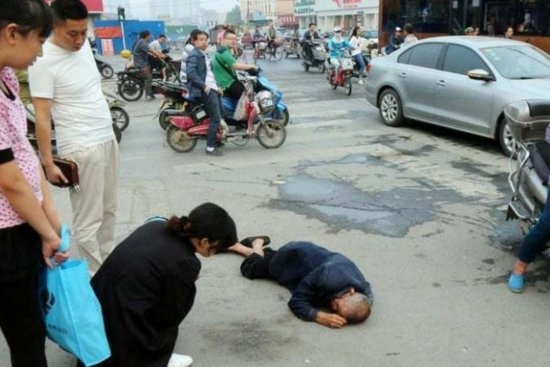falling: (222, 225, 383, 334)
